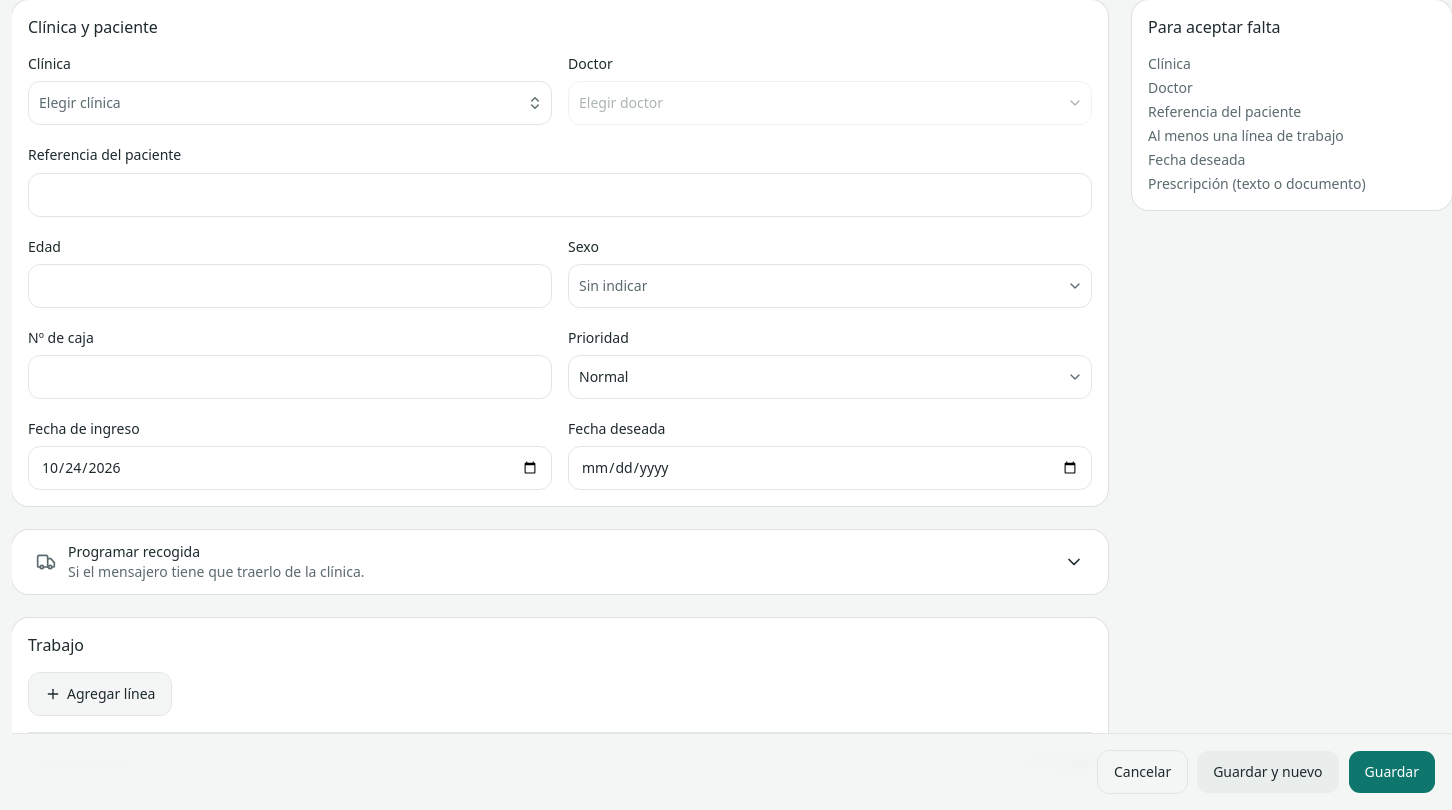
Scenario: CaseForm › programar recogida (ENT-1) › «Programar recogida» es una región con ese nombre que contiene su botón y sus campos
The image size is (1452, 810).
Step 1. Click the button "Programar recogida" → (134, 552), box [12, 530, 1108, 594]
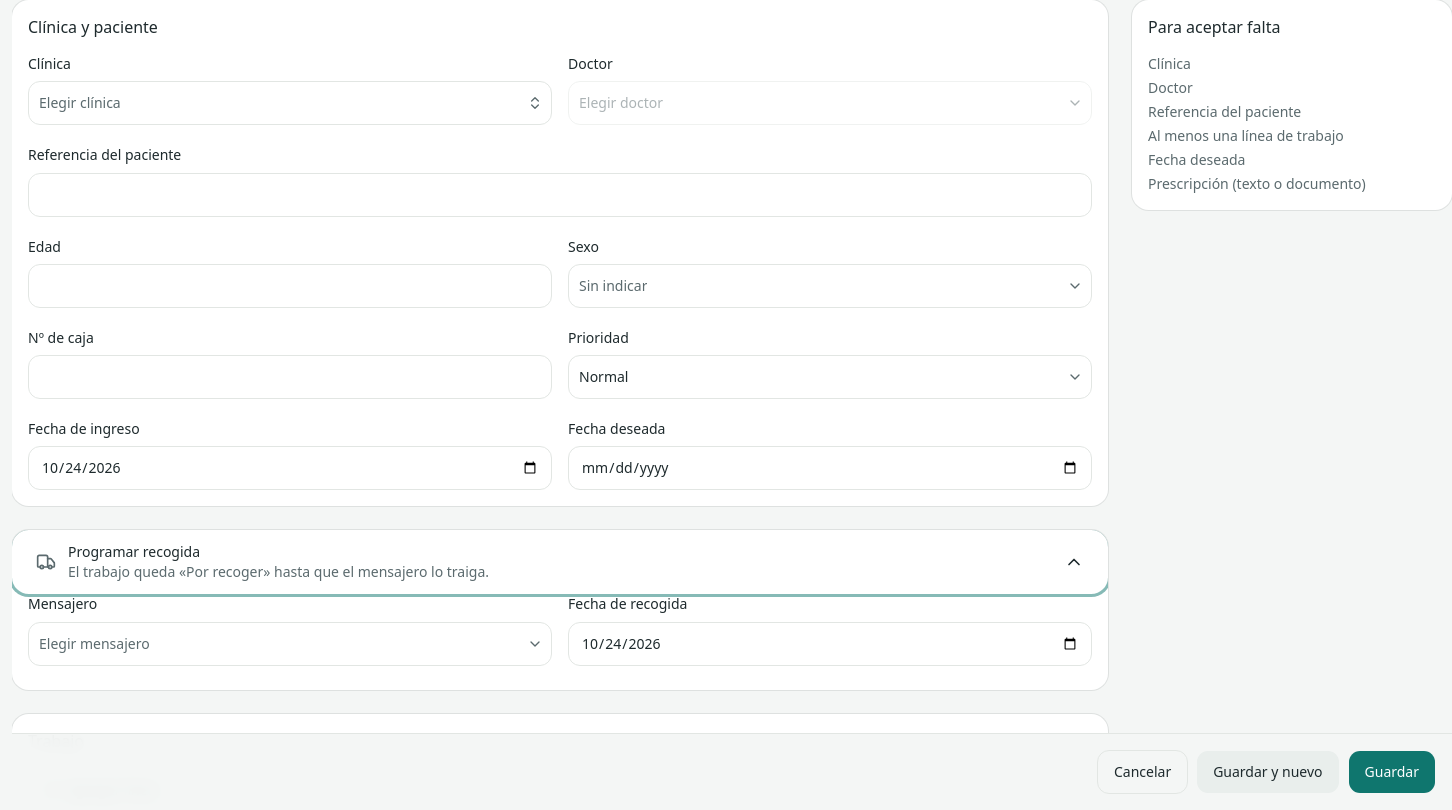
Check: the date field labelled "Fecha de recogida" is shown, box [568, 622, 1092, 666]
Check: the dropdown labelled "mensajero" is shown, box [28, 622, 552, 666]
